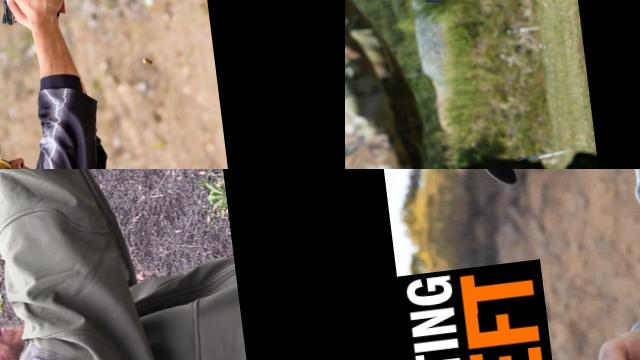handgun: (0, 0, 69, 51), (345, 0, 392, 54), (0, 169, 36, 204), (361, 0, 402, 13)
